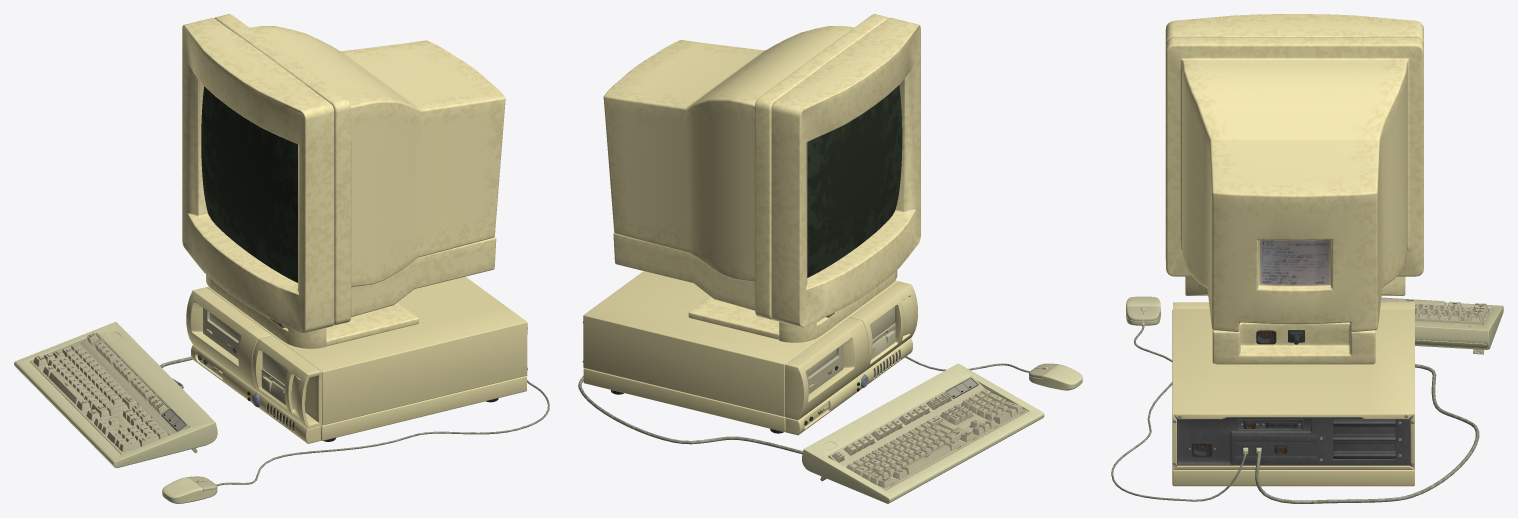
3 views of the same model, side by side, from view 1: azimuth 30°, elevation 25°; view 2: azimuth 150°, elevation 25°; view 3: azimuth 270°, elevation 25° (orthographic). The views are drawn at different scales.
Parts seen in each view (by area): view 1: monik2, bloc2, keyboard2, Keycaps2; view 2: monik2, bloc2, keyboard2, Keycaps2; view 3: monik2, bloc2, panel2, keyboard2, Keycaps2, object 7.
Boxes of the visible parts, x1,y1,x2,y2 form: monik2: [182, 14, 505, 348]; bloc2: [186, 276, 527, 443]; keyboard2: [14, 322, 549, 503]; Keycaps2: [33, 332, 168, 452]; monik2: [603, 14, 920, 342]; bloc2: [583, 271, 917, 435]; keyboard2: [578, 356, 1082, 503]; Keycaps2: [832, 389, 1023, 488]; monik2: [1165, 14, 1423, 364]; bloc2: [1172, 302, 1414, 486]; panel2: [1174, 415, 1412, 466]; keyboard2: [1111, 296, 1503, 503]; Keycaps2: [1381, 297, 1488, 322]; object 7: [1192, 330, 1304, 456].
Size of the model in its own units: 0.9638 by 0.7723 by 0.7633.
Materials: 6 (6 with a texture image).
